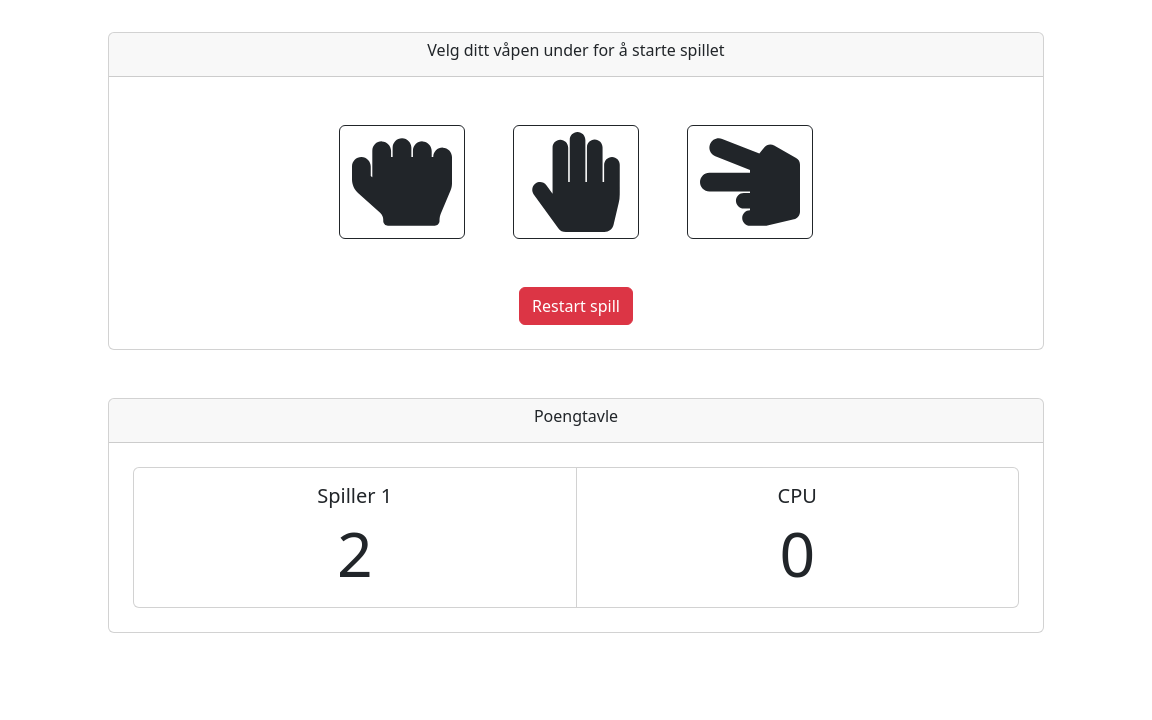
Sjekk at "Motstander valgte" er synlig når vi velger et våpen › Sjekk at lukkeknappen er synlig i vinnermodalen
Click the button named "papir": [576, 182] box [513,125,639,239]
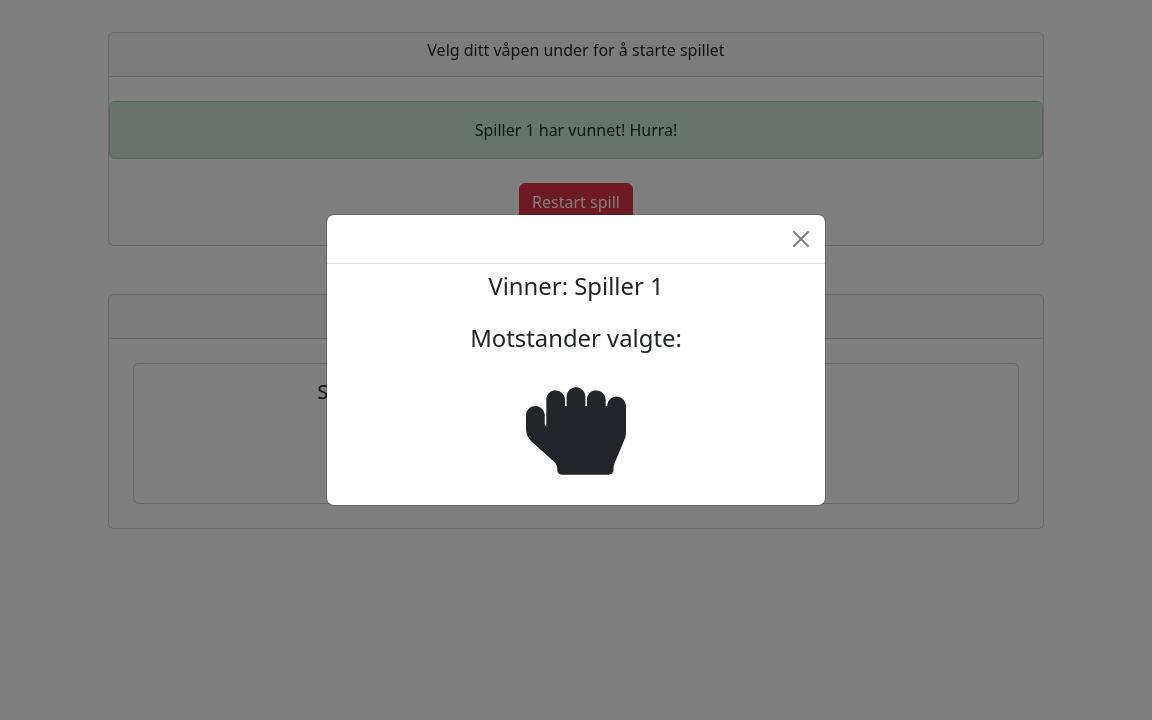
Expected: the button named "close" is shown, [785,223,817,255]
